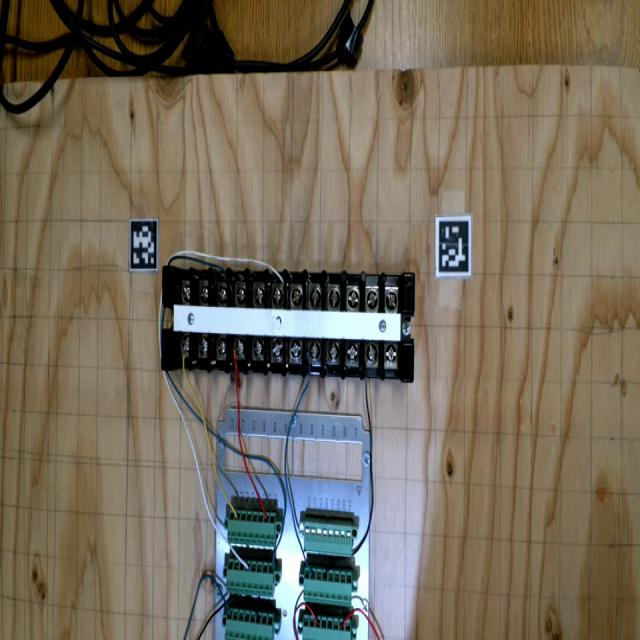Phillips_Block: (157, 260, 419, 383)
Terminal_2: (300, 565, 356, 607), (224, 558, 277, 597), (226, 509, 277, 547), (225, 607, 274, 640), (302, 614, 351, 639)
